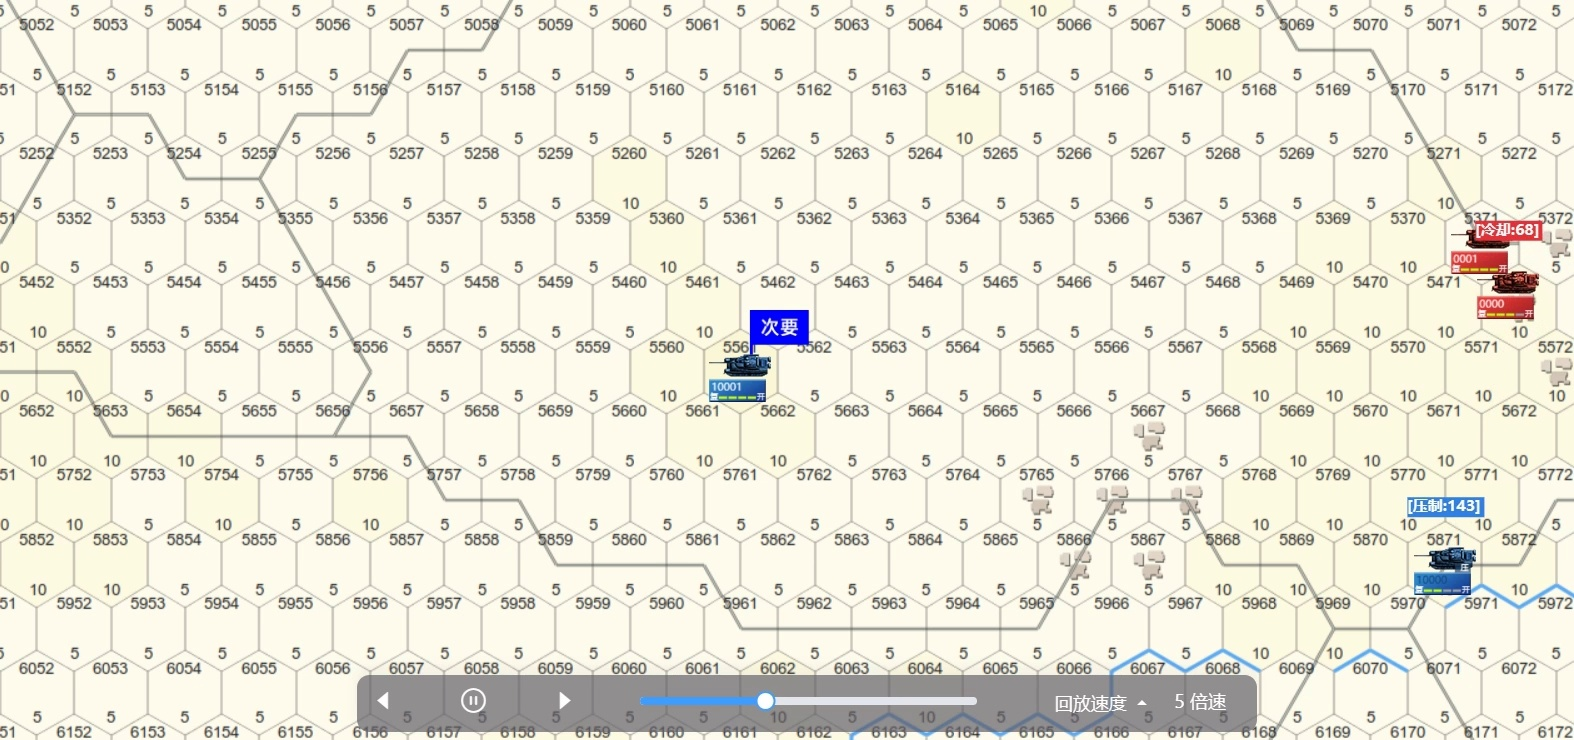blue_tank: (712, 355, 774, 404), (1414, 547, 1478, 594)
red_tank: (1457, 221, 1514, 276), (1478, 277, 1541, 318)
